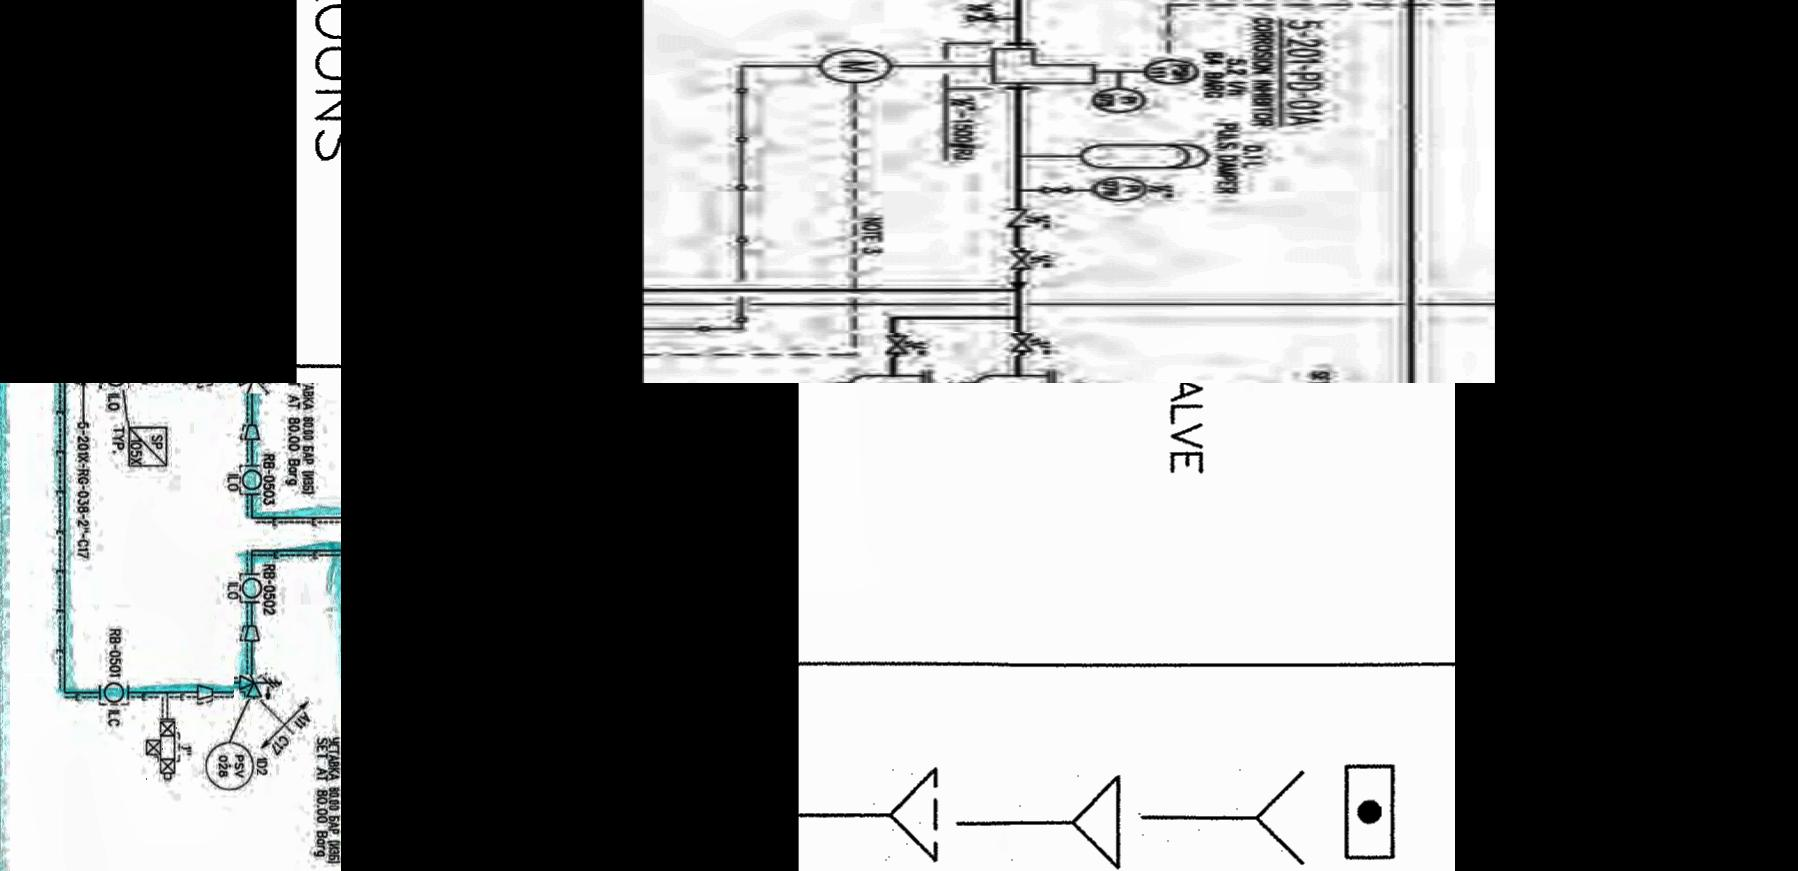2 WAY VALVE: (142, 716, 182, 780)
ANGLE RELIEF VALVE: (232, 675, 281, 700), (225, 383, 284, 392)
CONCENTRIC REDUCER: (235, 625, 266, 644), (240, 423, 263, 441)
DRUM AND PRESSURE VESSEL: (732, 141, 871, 171)
FIELD INSTRUMENT: (198, 738, 256, 793), (472, 45, 553, 84), (745, 85, 813, 116), (797, 55, 858, 85), (752, 174, 804, 203), (239, 571, 264, 602), (240, 466, 264, 494), (99, 681, 128, 703), (99, 383, 126, 387)
GATE VALVE: (529, 334, 570, 358), (657, 332, 697, 356), (658, 248, 696, 272), (613, 11, 662, 25), (690, 183, 738, 197)
SIGHT GLASS: (1339, 762, 1399, 865)
SPECIAL PIPING ITEM: (125, 419, 171, 473)
TUNDISH CLOSED: (952, 764, 1126, 871)
TUNDISH OPEN: (1139, 761, 1310, 871)
TUNDISH SCREEN: (798, 762, 945, 864)
